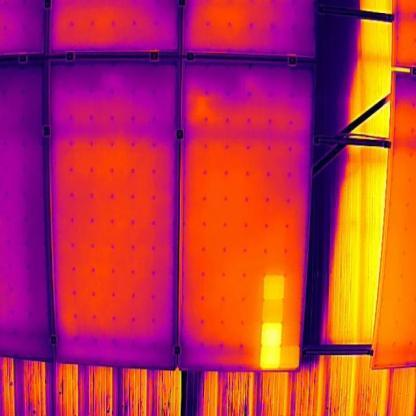anomaly: (259, 269, 305, 376)
